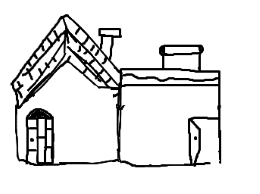chimney: (155, 28, 210, 72), (98, 23, 125, 59)
door: (19, 99, 65, 166), (183, 112, 227, 166)
roof: (3, 11, 127, 100), (115, 61, 231, 93)
wall: (115, 82, 225, 170), (8, 90, 127, 169)
